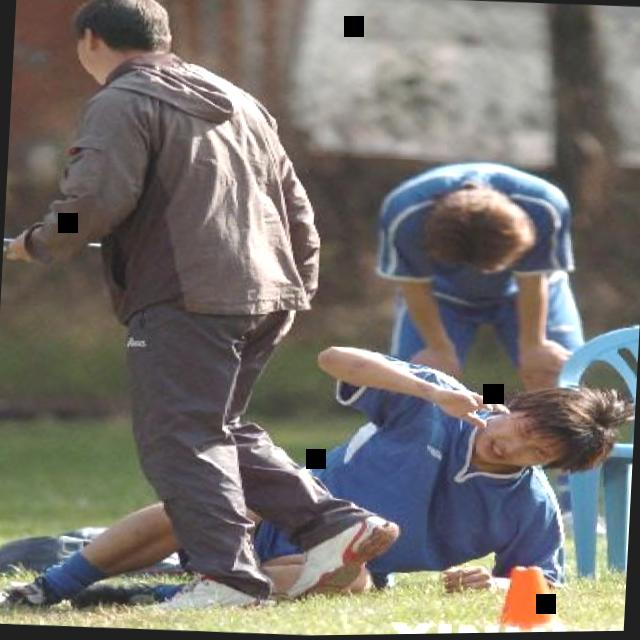Fall-Detected: (209, 323, 632, 623)
